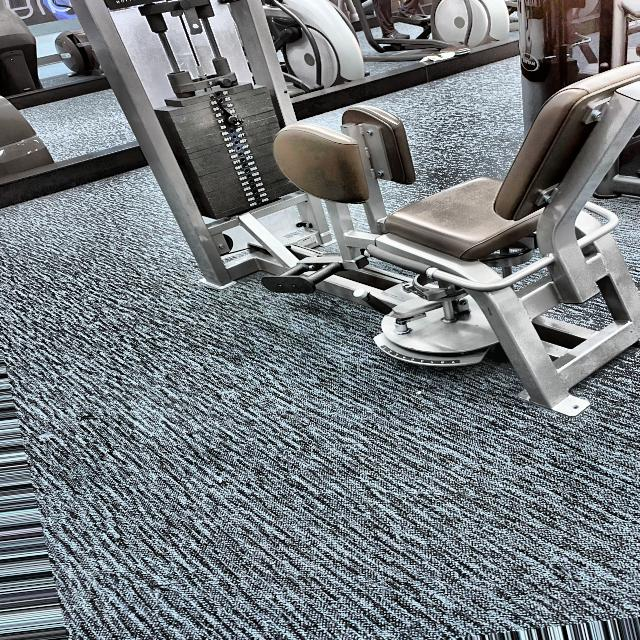hip_adduction_machine: (253, 57, 640, 453), (256, 76, 476, 396)
